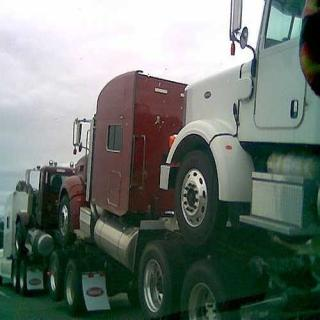Towing_truck: (3, 2, 318, 317)
